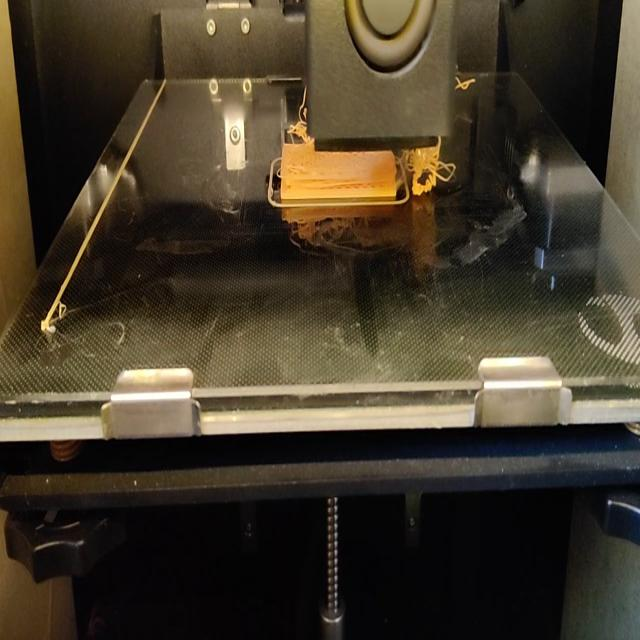spaghetti: (409, 142, 453, 201), (290, 91, 308, 165)
